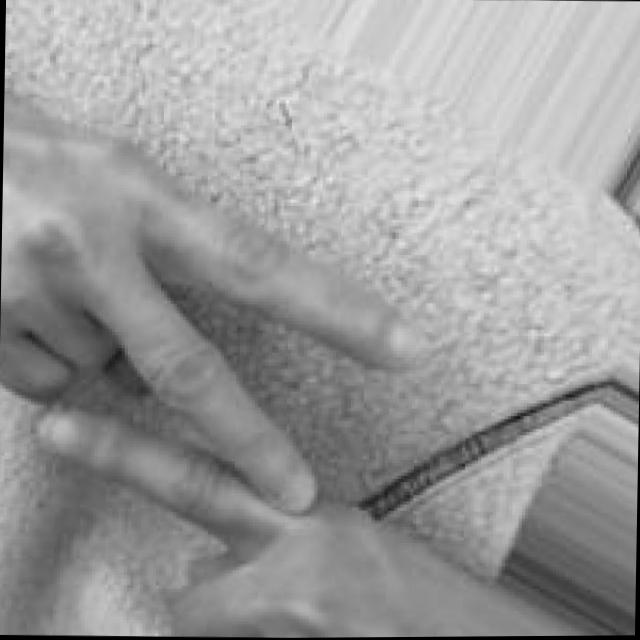Z: (0, 68, 433, 640)
